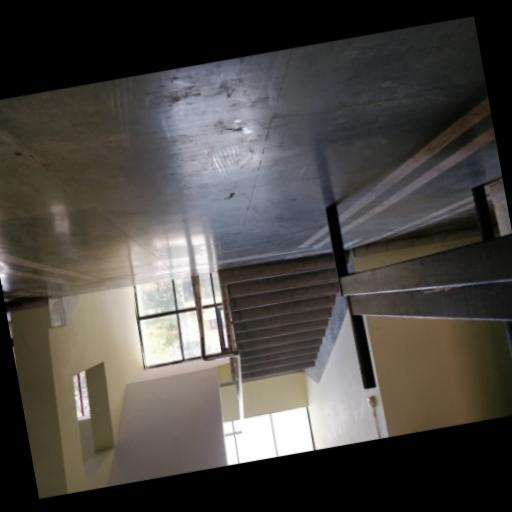stairs: (217, 253, 337, 379)
